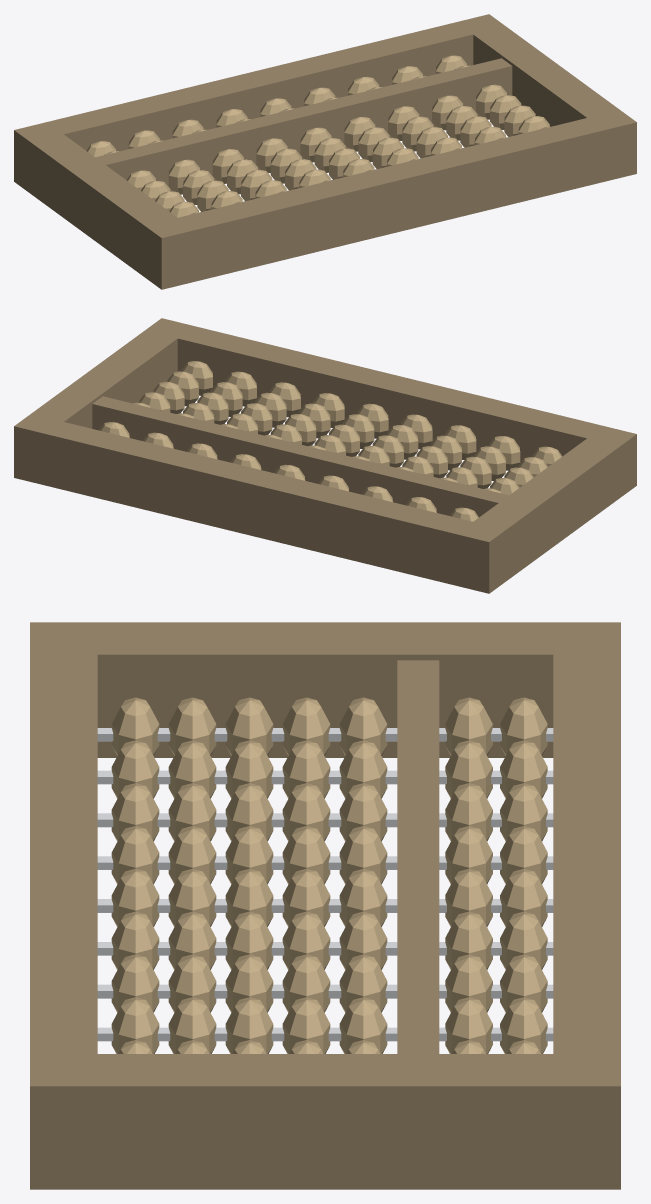
File: abacus.glb
3 renders of one model, top to bottom at view 1: azimuth 30°, elevation 25°; view 2: azimuth 150°, elevation 25°; view 3: azimuth 270°, elevation 25°, orthographic. The views are drawn at different scales.
Parts seen in each view (by area): view 1: abacus; view 2: abacus; view 3: abacus.
Part boxes in pixels (<box>): abacus: <box>14,14,636,289</box>; abacus: <box>14,318,636,593</box>; abacus: <box>30,622,620,1189</box>.
Size of the model in its own units: 0.26 by 0.027 by 0.14.
